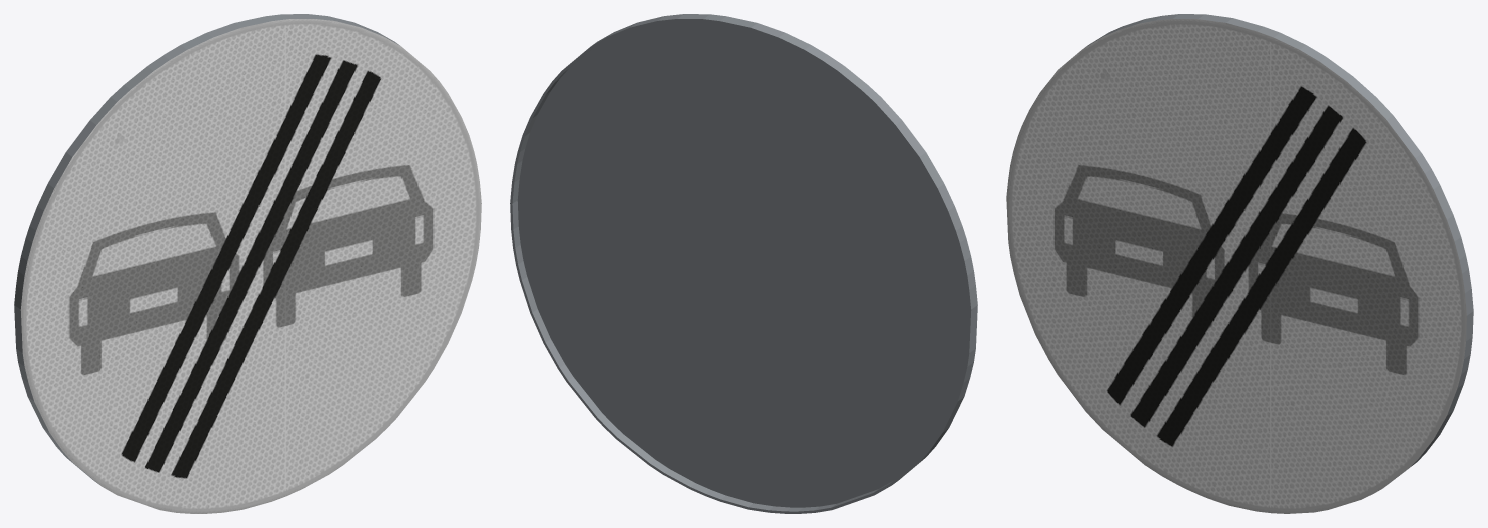
3 views of the same model, side by side, from view 1: azimuth 30°, elevation 25°; view 2: azimuth 150°, elevation 25°; view 3: azimuth 330°, elevation 25° (orthographic).
Visible parts, largest first — view 1: cat_7f2bcabeaaa6a06e; view 2: cat_7f2bcabeaaa6a06e; view 3: cat_7f2bcabeaaa6a06e.
Part boxes in pixels (x1=…): cat_7f2bcabeaaa6a06e: x1=14, y1=14, x2=481, y2=513; cat_7f2bcabeaaa6a06e: x1=510, y1=14, x2=977, y2=513; cat_7f2bcabeaaa6a06e: x1=1006, y1=14, x2=1473, y2=513.
Size of the model in its own units: 0.6 by 0.015 by 0.6.
Materials: 2 (1 with a texture image).
